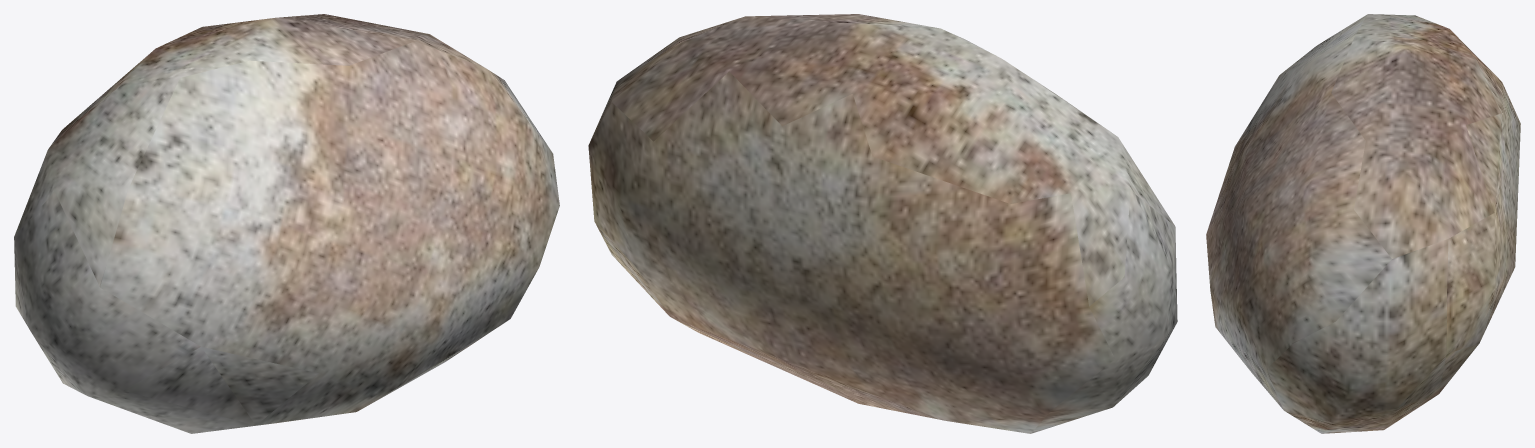
The picture shows the model from 3 angles, left to right: view 1: azimuth 30°, elevation 25°; view 2: azimuth 150°, elevation 25°; view 3: azimuth 270°, elevation 25°; orthographic projection. The views are drawn at different scales.
Visible parts, largest first — view 1: rock075_lod4; view 2: rock075_lod4; view 3: rock075_lod4.
Part boxes in pixels (x1,y1,x2,y2): rock075_lod4: (14, 14, 559, 433); rock075_lod4: (588, 14, 1177, 433); rock075_lod4: (1206, 14, 1520, 433).
Bounding box in the file's own units: 1 × 0.6841 × 0.5637.
Materials: 1 (1 with a texture image).
